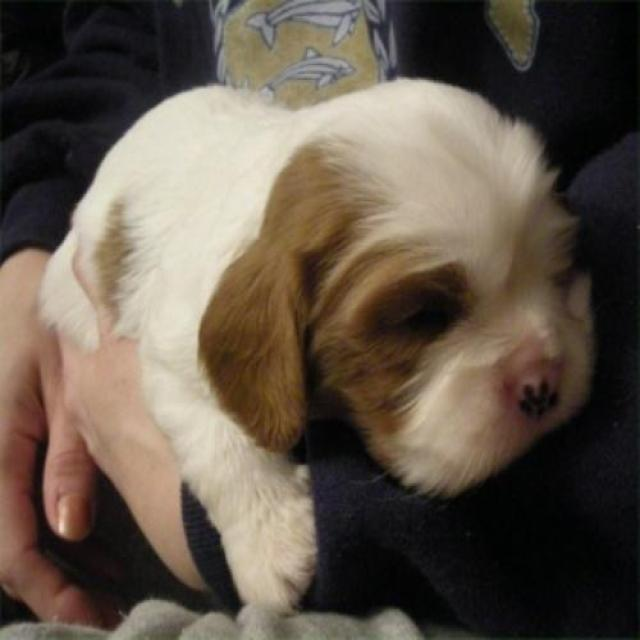blenheim_spaniel: (37, 68, 602, 627)
